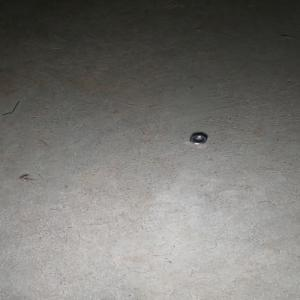Nut: (188, 135, 207, 146)
